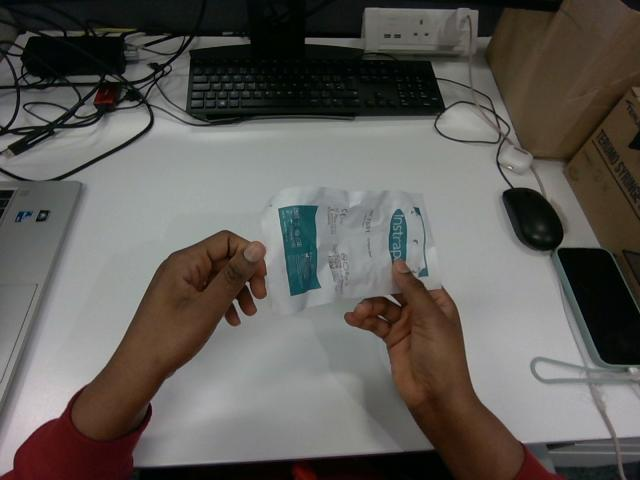gallipot: (262, 187, 440, 314)
